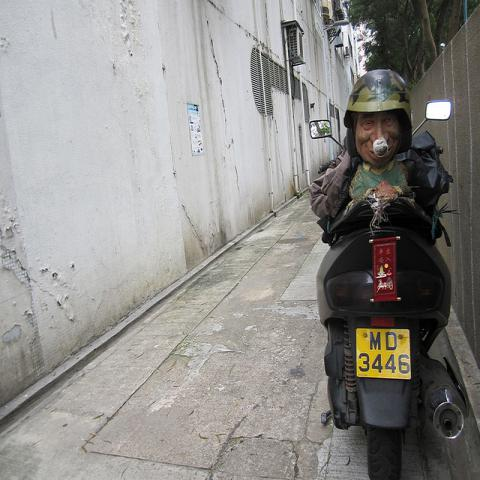motorcycle: (316, 192, 470, 474)
